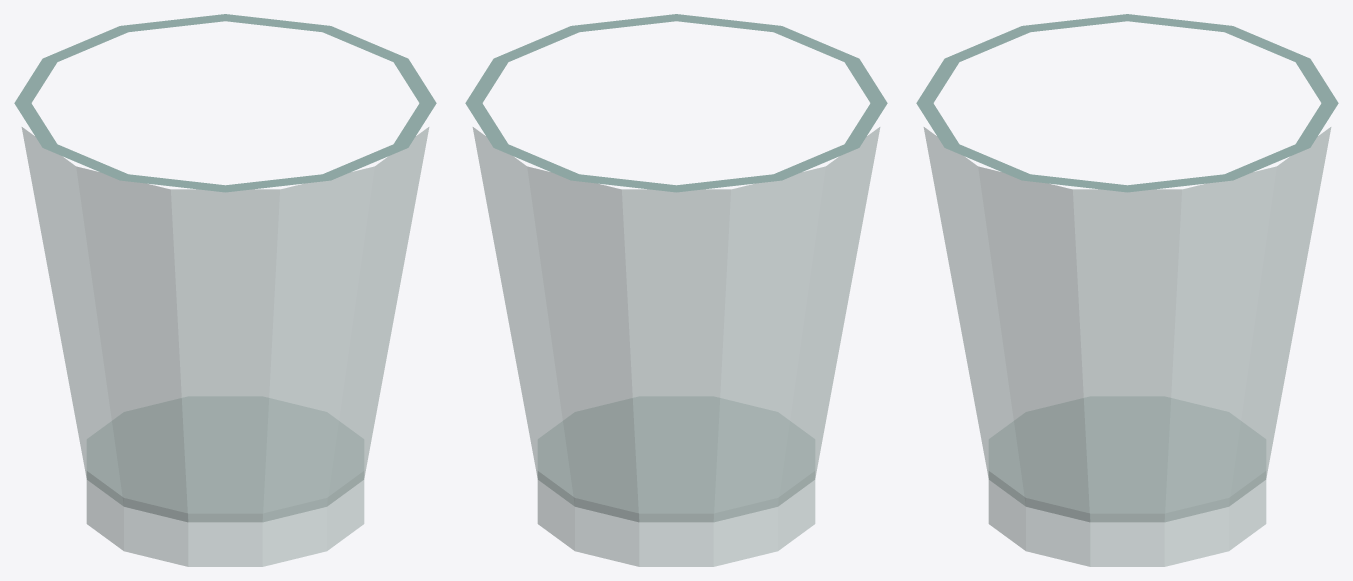
File: tumbler_plastic.glb
3 renders of one model, left to right at view 1: azimuth 30°, elevation 25°; view 2: azimuth 150°, elevation 25°; view 3: azimuth 270°, elevation 25°, orthographic.
Visible parts, largest first — view 1: block_raised sides, block_thick foot, block_rolled rim 9, block_rolled rim 10, block_rolled rim 3, block_rolled rim 4, block_rolled rim 2, block_rolled rim 5, block_rolled rim 8, block_rolled rim 11, block_rolled rim 0, block_rolled rim 7 (+2 smaller); view 2: block_raised sides, block_thick foot, block_rolled rim 1, block_rolled rim 2, block_rolled rim 7, block_rolled rim 8, block_rolled rim 6, block_rolled rim 9, block_rolled rim 0, block_rolled rim 3, block_rolled rim 4, block_rolled rim 11 (+2 smaller); view 3: block_raised sides, block_thick foot, block_rolled rim 5, block_rolled rim 6, block_rolled rim 0, block_rolled rim 11, block_rolled rim 1, block_rolled rim 10, block_rolled rim 4, block_rolled rim 7, block_rolled rim 3, block_rolled rim 8 (+2 smaller).
Boxes of the visible parts, box(x1,y1,x2,y2) form: block_raised sides: box(22, 127, 429, 522); block_thick foot: box(86, 396, 364, 566); block_rolled rim 9: box(120, 14, 225, 32); block_rolled rim 10: box(225, 14, 330, 32); block_rolled rim 3: box(225, 174, 330, 192); block_rolled rim 4: box(120, 174, 225, 192); block_rolled rim 2: box(322, 144, 407, 180); block_rolled rim 5: box(43, 144, 128, 180); block_rolled rim 8: box(43, 26, 127, 62); block_rolled rim 11: box(323, 26, 407, 62); block_rolled rim 0: box(394, 58, 436, 103); block_rolled rim 7: box(14, 58, 56, 103); block_raised sides: box(473, 127, 880, 522); block_thick foot: box(537, 396, 815, 566); block_rolled rim 1: box(571, 14, 676, 32); block_rolled rim 2: box(676, 14, 781, 32); block_rolled rim 7: box(676, 174, 781, 192); block_rolled rim 8: box(571, 174, 676, 192); block_rolled rim 6: box(773, 144, 858, 180); block_rolled rim 9: box(494, 144, 579, 180); block_rolled rim 0: box(494, 26, 578, 62); block_rolled rim 3: box(774, 26, 858, 62); block_rolled rim 4: box(845, 58, 887, 103); block_rolled rim 11: box(465, 58, 507, 103); block_raised sides: box(923, 127, 1331, 522); block_thick foot: box(988, 396, 1266, 566); block_rolled rim 5: box(1022, 14, 1127, 32); block_rolled rim 6: box(1127, 14, 1232, 32); block_rolled rim 0: box(1022, 174, 1127, 192); block_rolled rim 11: box(1127, 174, 1232, 192); block_rolled rim 1: box(945, 144, 1030, 180); block_rolled rim 10: box(1224, 144, 1309, 180); block_rolled rim 4: box(945, 26, 1029, 62); block_rolled rim 7: box(1225, 26, 1309, 62); block_rolled rim 3: box(916, 58, 958, 103); block_rolled rim 8: box(1296, 58, 1338, 103).
Size of the model in its own units: 0.086 by 0.091 by 0.086.
2 materials, 2 textured.
